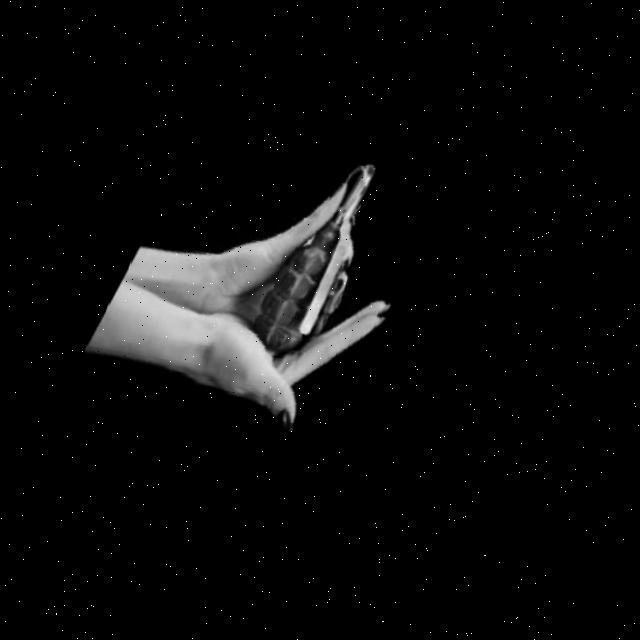grenade: (234, 138, 425, 392)
